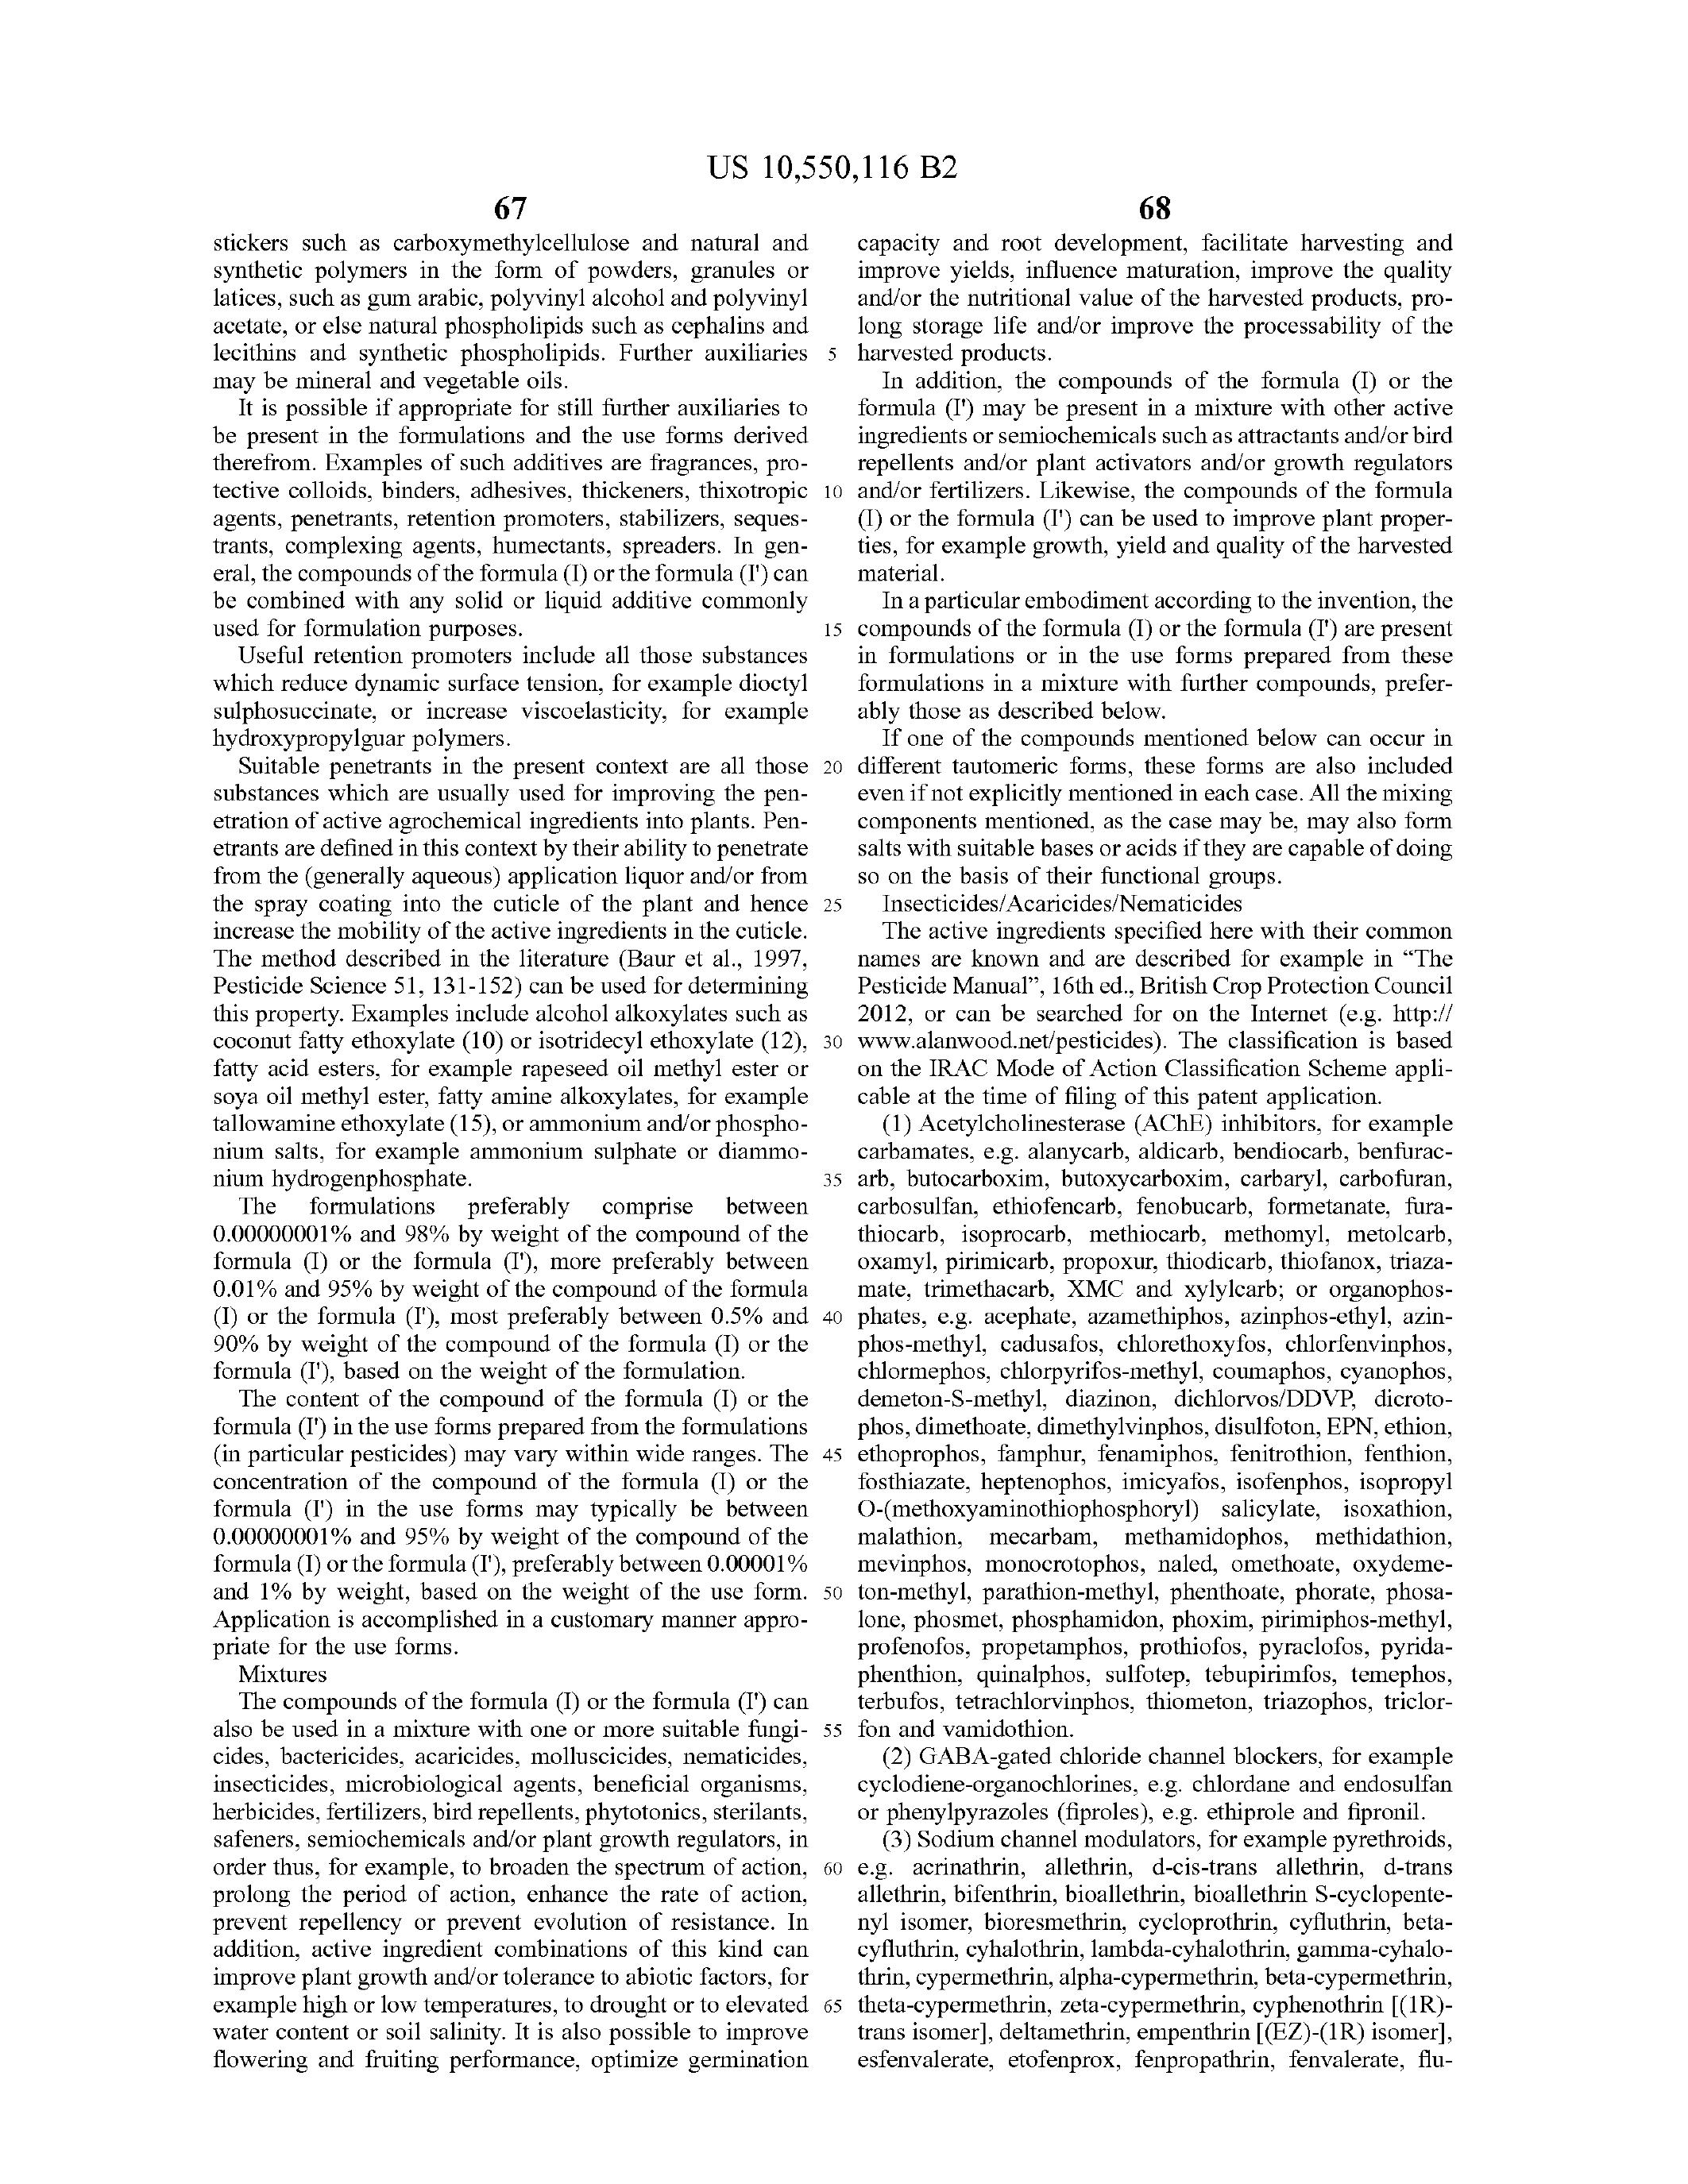substitutes: (181, 1688, 826, 2090), (846, 230, 1456, 362), (202, 1702, 234, 2035), (223, 1709, 289, 1727)
